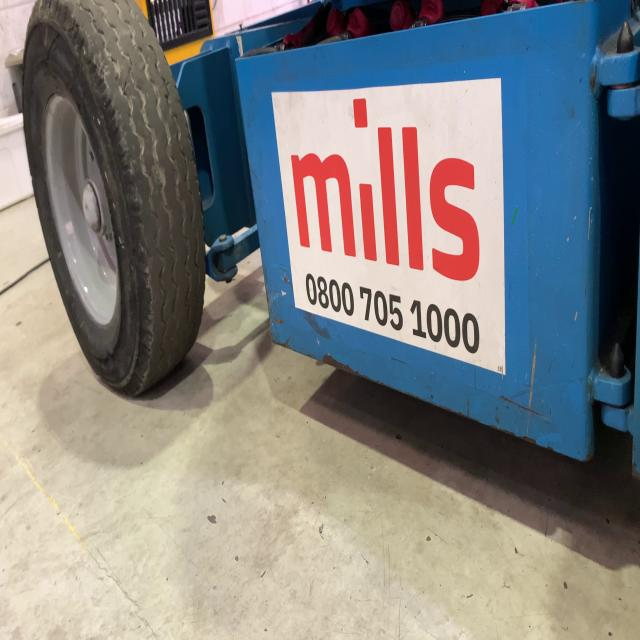Adesivos: (269, 73, 506, 383)
